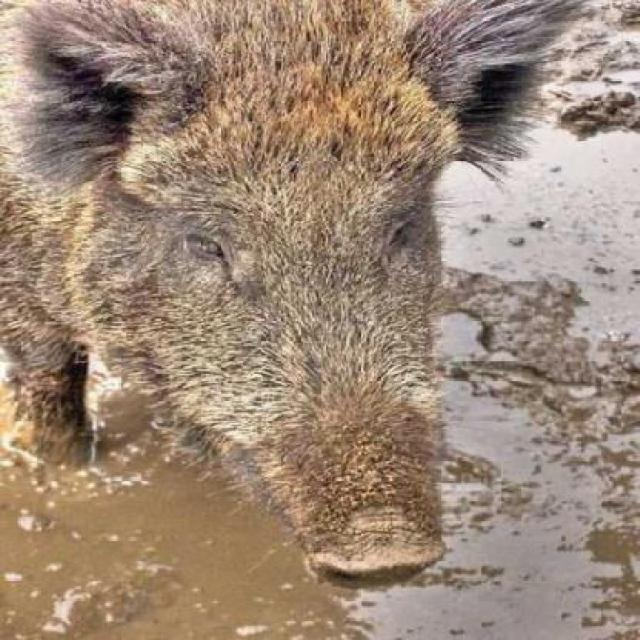pig: (0, 0, 615, 601)
